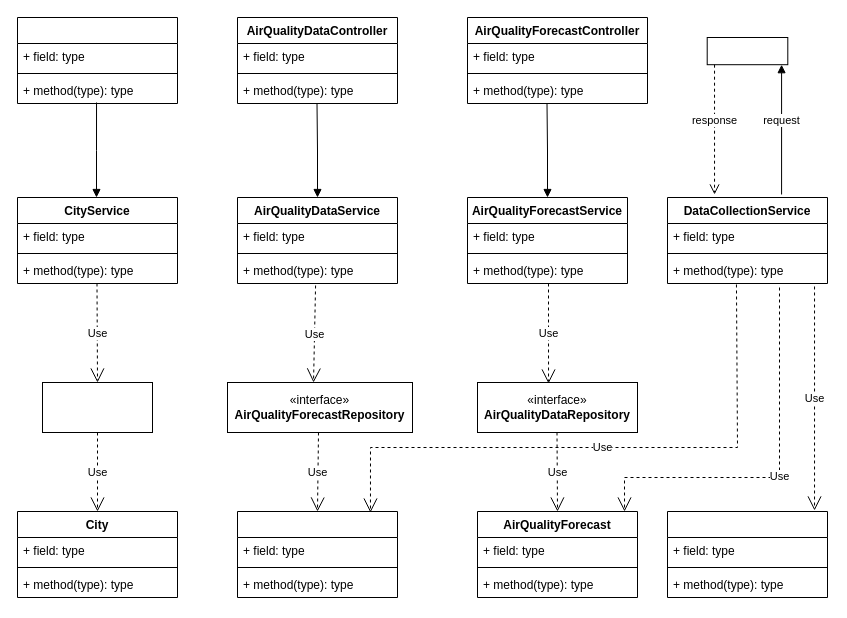
The diagram is 847 pixels wide and 618 high, and some of its shapes have lost their labels. The shapes that lost their labels are listed below. From the top down, each one's box as (x1, y1, x2, y2) in pixels, then its label:
(16, 16, 178, 104): CityController
(706, 36, 788, 65): WAQI-Api
(42, 382, 152, 432): «interface» CityRepository
(236, 510, 398, 598): AirQualityData
(666, 510, 828, 598): AirQualityApiResponse
